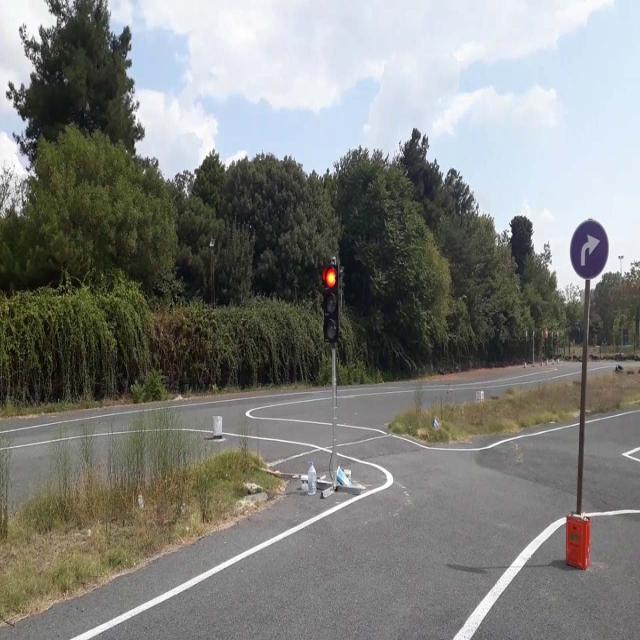kirmizi: (323, 266, 337, 343)
sag: (570, 220, 608, 280)
